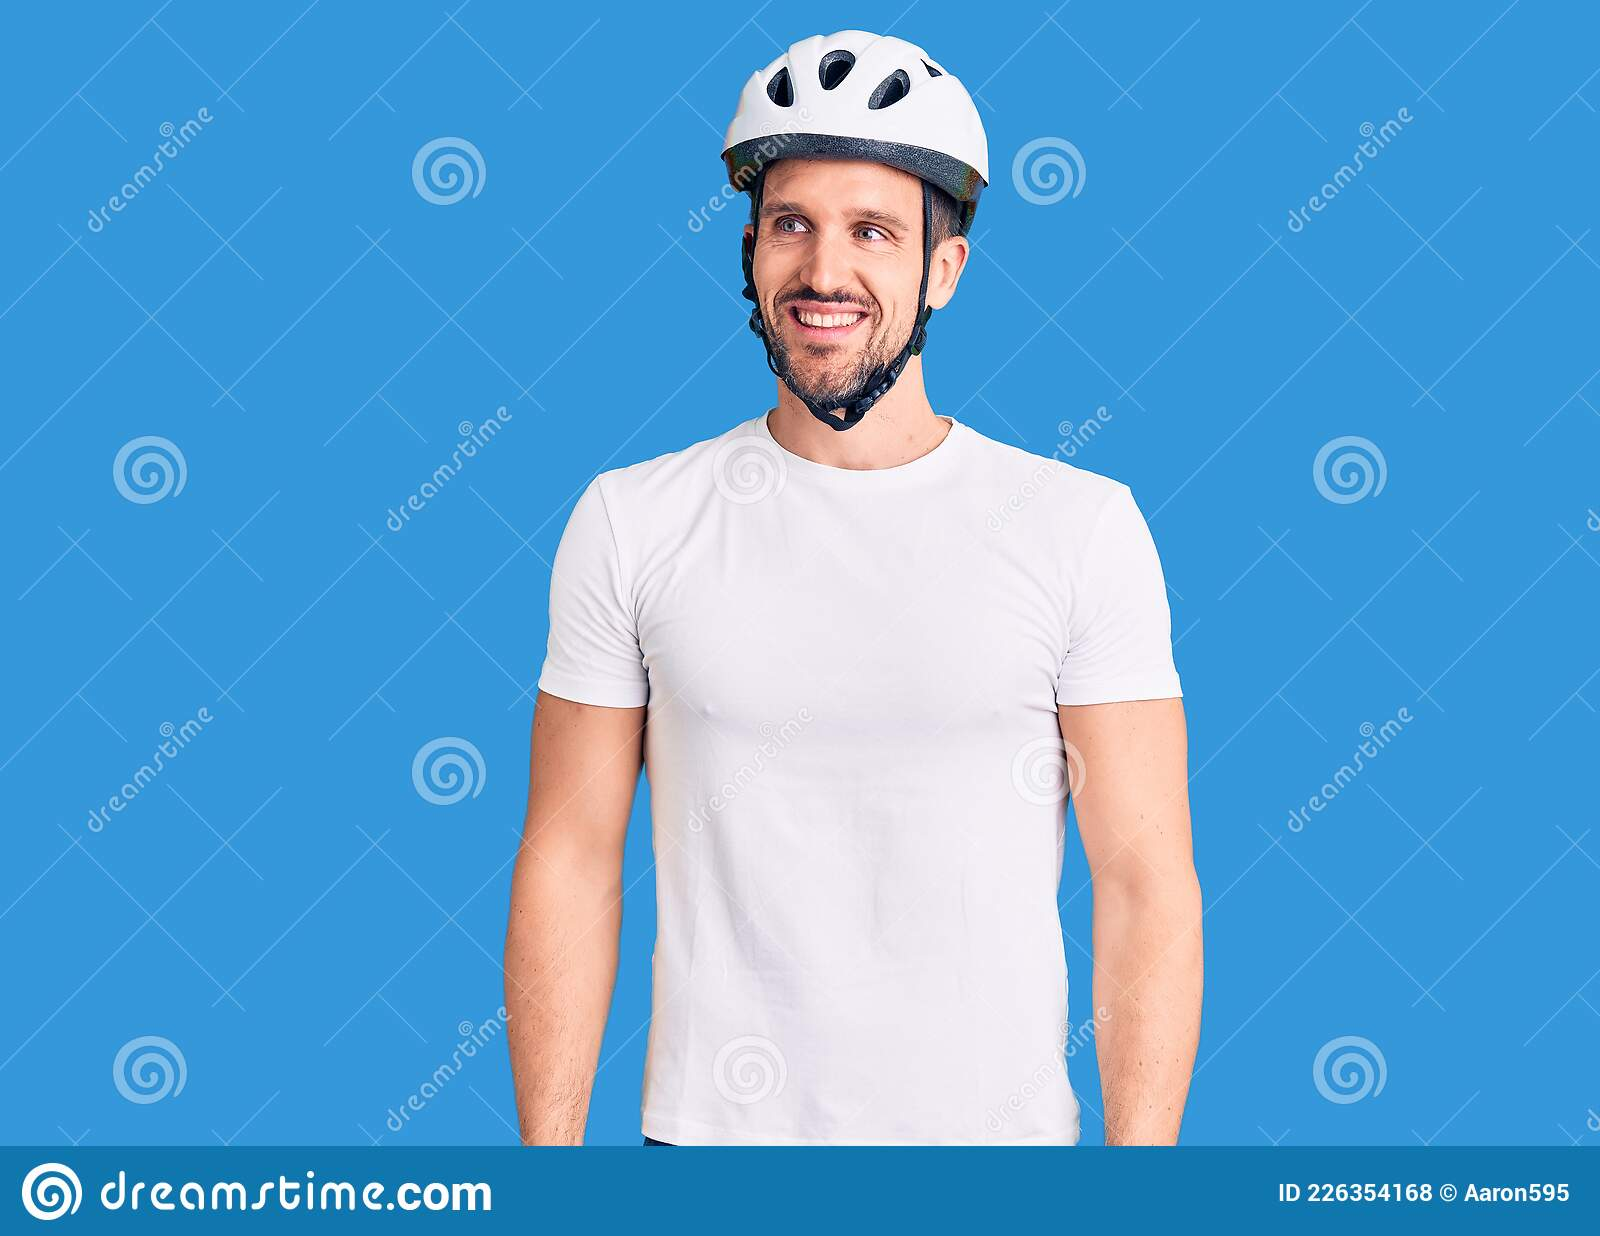helmet: (721, 31, 991, 434)
